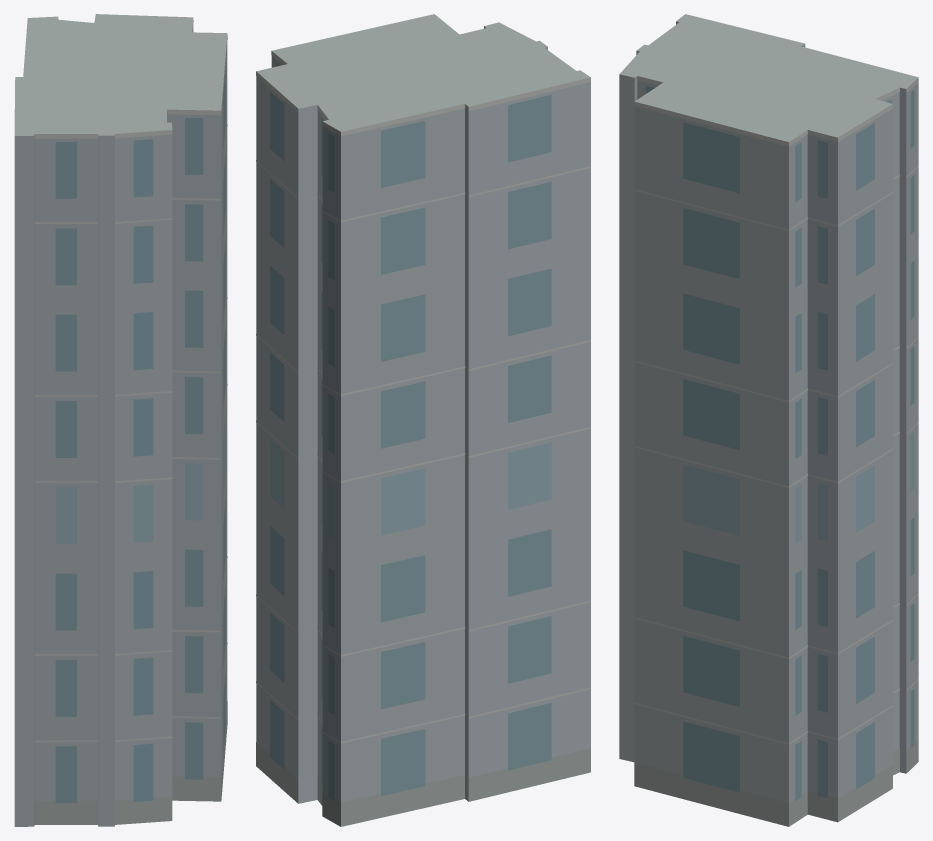
Rendered from survey-upis-32529398.glb.
3 views of the same model, side by side, from view 1: azimuth 30°, elevation 25°; view 2: azimuth 150°, elevation 25°; view 3: azimuth 270°, elevation 25° (orthographic).
Visible parts, largest first — view 1: survey-upis-32529398.tmp; view 2: survey-upis-32529398.tmp; view 3: survey-upis-32529398.tmp.
Boxes of the visible parts, x1,y1,x2,y2 form: survey-upis-32529398.tmp: (14,14,227,826); survey-upis-32529398.tmp: (256,14,590,826); survey-upis-32529398.tmp: (619,14,918,826).
Size of the model in its own units: 14.74 by 36.65 by 14.54.
